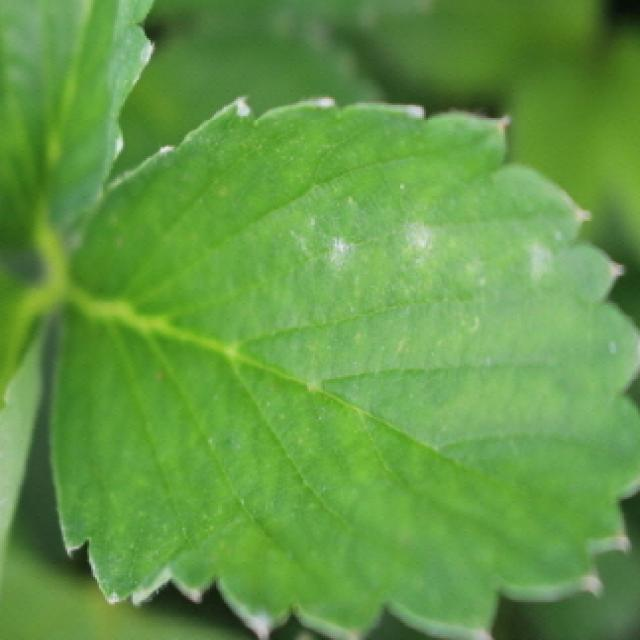Powdery Mildew Leaf: (49, 96, 640, 640)
